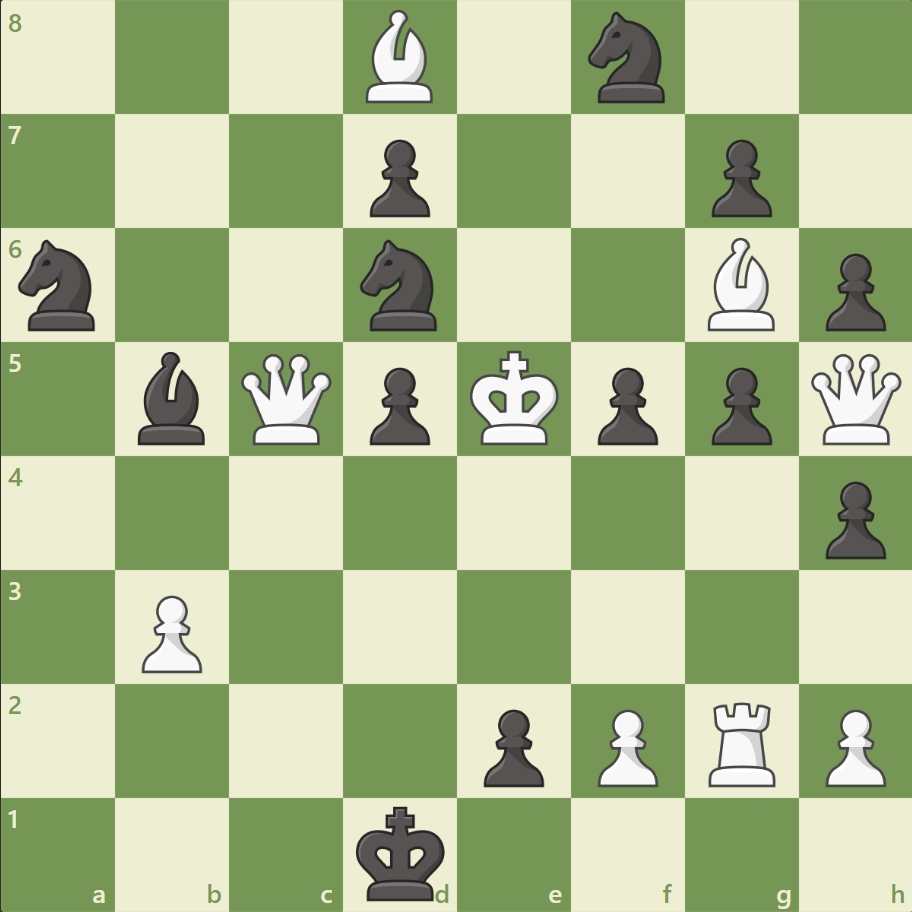B: (358, 6, 442, 109), (698, 233, 782, 336)
K: (465, 344, 565, 452)
P: (133, 586, 208, 677), (588, 700, 662, 791), (815, 700, 889, 791)
Q: (237, 349, 336, 449), (805, 349, 904, 449)
R: (700, 693, 783, 790)
b: (131, 347, 215, 449)
k: (351, 798, 451, 906)
n: (351, 234, 449, 337), (579, 7, 676, 110), (11, 234, 108, 337)
p: (701, 132, 776, 223), (701, 359, 776, 450), (474, 700, 549, 791), (361, 132, 435, 223), (815, 246, 889, 337), (361, 359, 435, 450), (588, 359, 662, 450), (815, 473, 889, 564)
